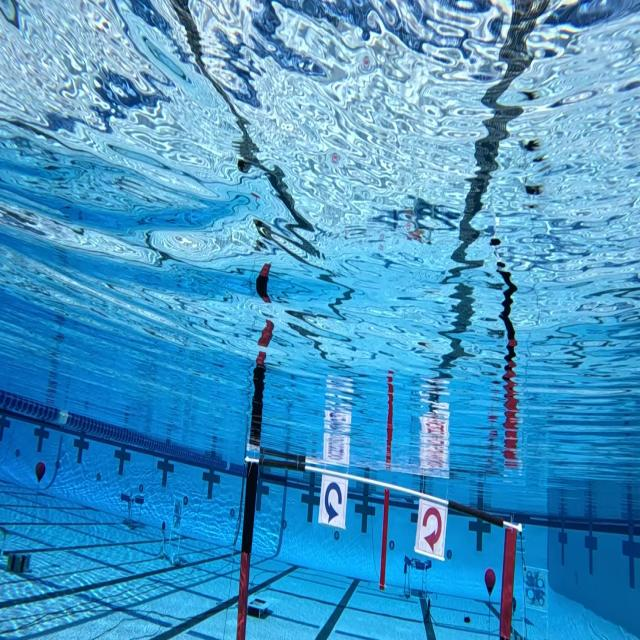blue_side: (318, 470, 348, 524)
red_side: (416, 494, 446, 558)
